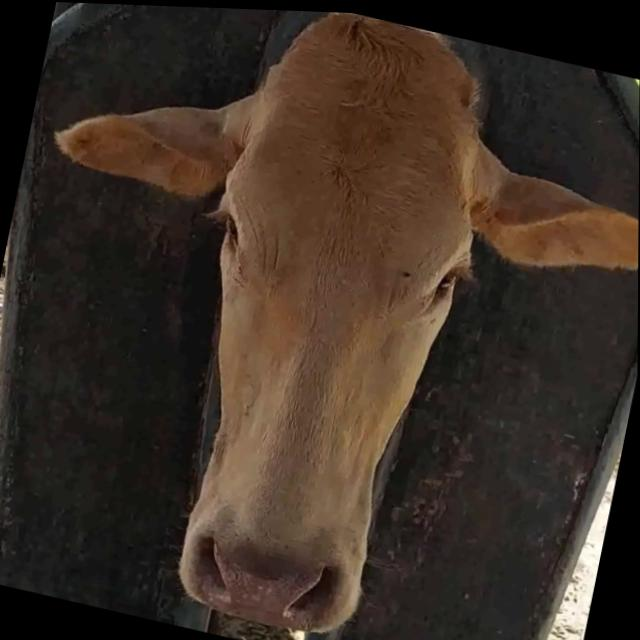cowFace: (144, 4, 517, 640)
